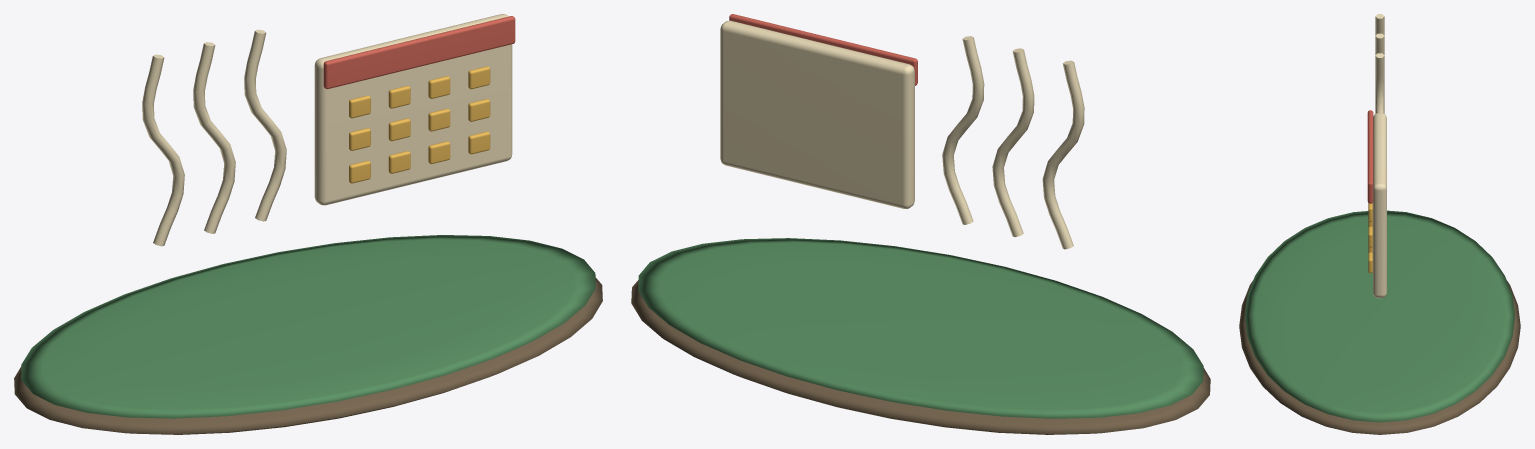
Rendered from air-over-time.glb.
3 views of the same model, side by side, from view 1: azimuth 30°, elevation 25°; view 2: azimuth 150°, elevation 25°; view 3: azimuth 270°, elevation 25° (orthographic). The views are drawn at different scales.
Parts seen in each view (by area): view 1: air-over-time_surface_01, air-over-time_surface_02, air-over-time_surface_00, air-over-time_surface_03, air-over-time_surface_04; view 2: air-over-time_surface_01, air-over-time_surface_02, air-over-time_surface_00, air-over-time_surface_03; view 3: air-over-time_surface_01, air-over-time_surface_00, air-over-time_surface_02, air-over-time_surface_03, air-over-time_surface_04.
Part boxes in pixels (x1,y1,x2,y2): air-over-time_surface_01: (21, 235, 595, 418); air-over-time_surface_02: (142, 14, 512, 246); air-over-time_surface_00: (14, 278, 602, 434); air-over-time_surface_03: (323, 16, 515, 89); air-over-time_surface_04: (349, 66, 490, 183); air-over-time_surface_01: (638, 238, 1203, 418); air-over-time_surface_02: (720, 20, 1084, 249); air-over-time_surface_00: (631, 280, 1210, 434); air-over-time_surface_03: (729, 14, 917, 85); air-over-time_surface_01: (1245, 210, 1514, 422); air-over-time_surface_00: (1239, 281, 1520, 434); air-over-time_surface_02: (1373, 14, 1386, 298); air-over-time_surface_03: (1367, 110, 1373, 203); air-over-time_surface_04: (1368, 203, 1372, 273).
Bounding box in the file's own units: 4.56 × 2.61 × 2.5.
